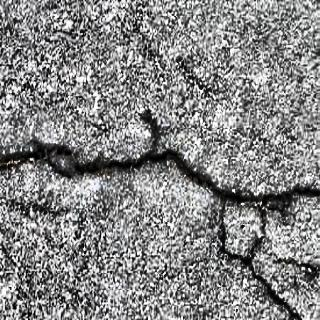crack: (0, 101, 320, 211), (215, 203, 320, 320)
